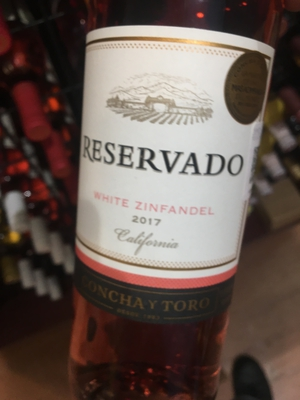reservado white zinfandel: (67, 4, 282, 383)
